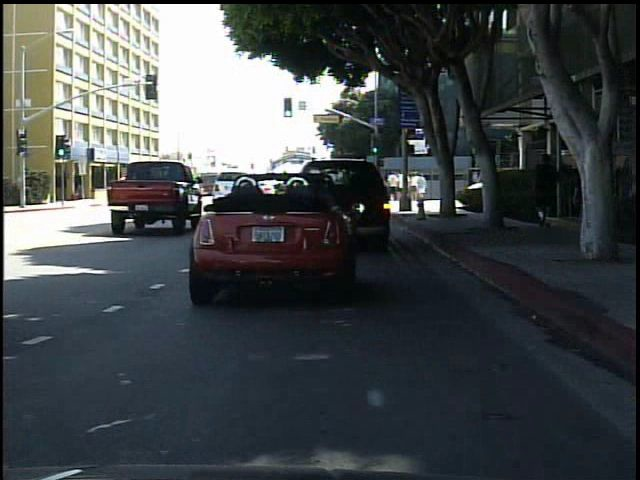person: (575, 137, 618, 256), (525, 149, 561, 230), (145, 172, 164, 202)
